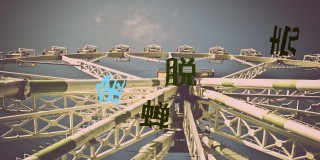壳: (269, 24, 300, 57)
脱: (165, 55, 199, 88)
蝉: (140, 99, 170, 133)
金: (95, 74, 127, 107)
